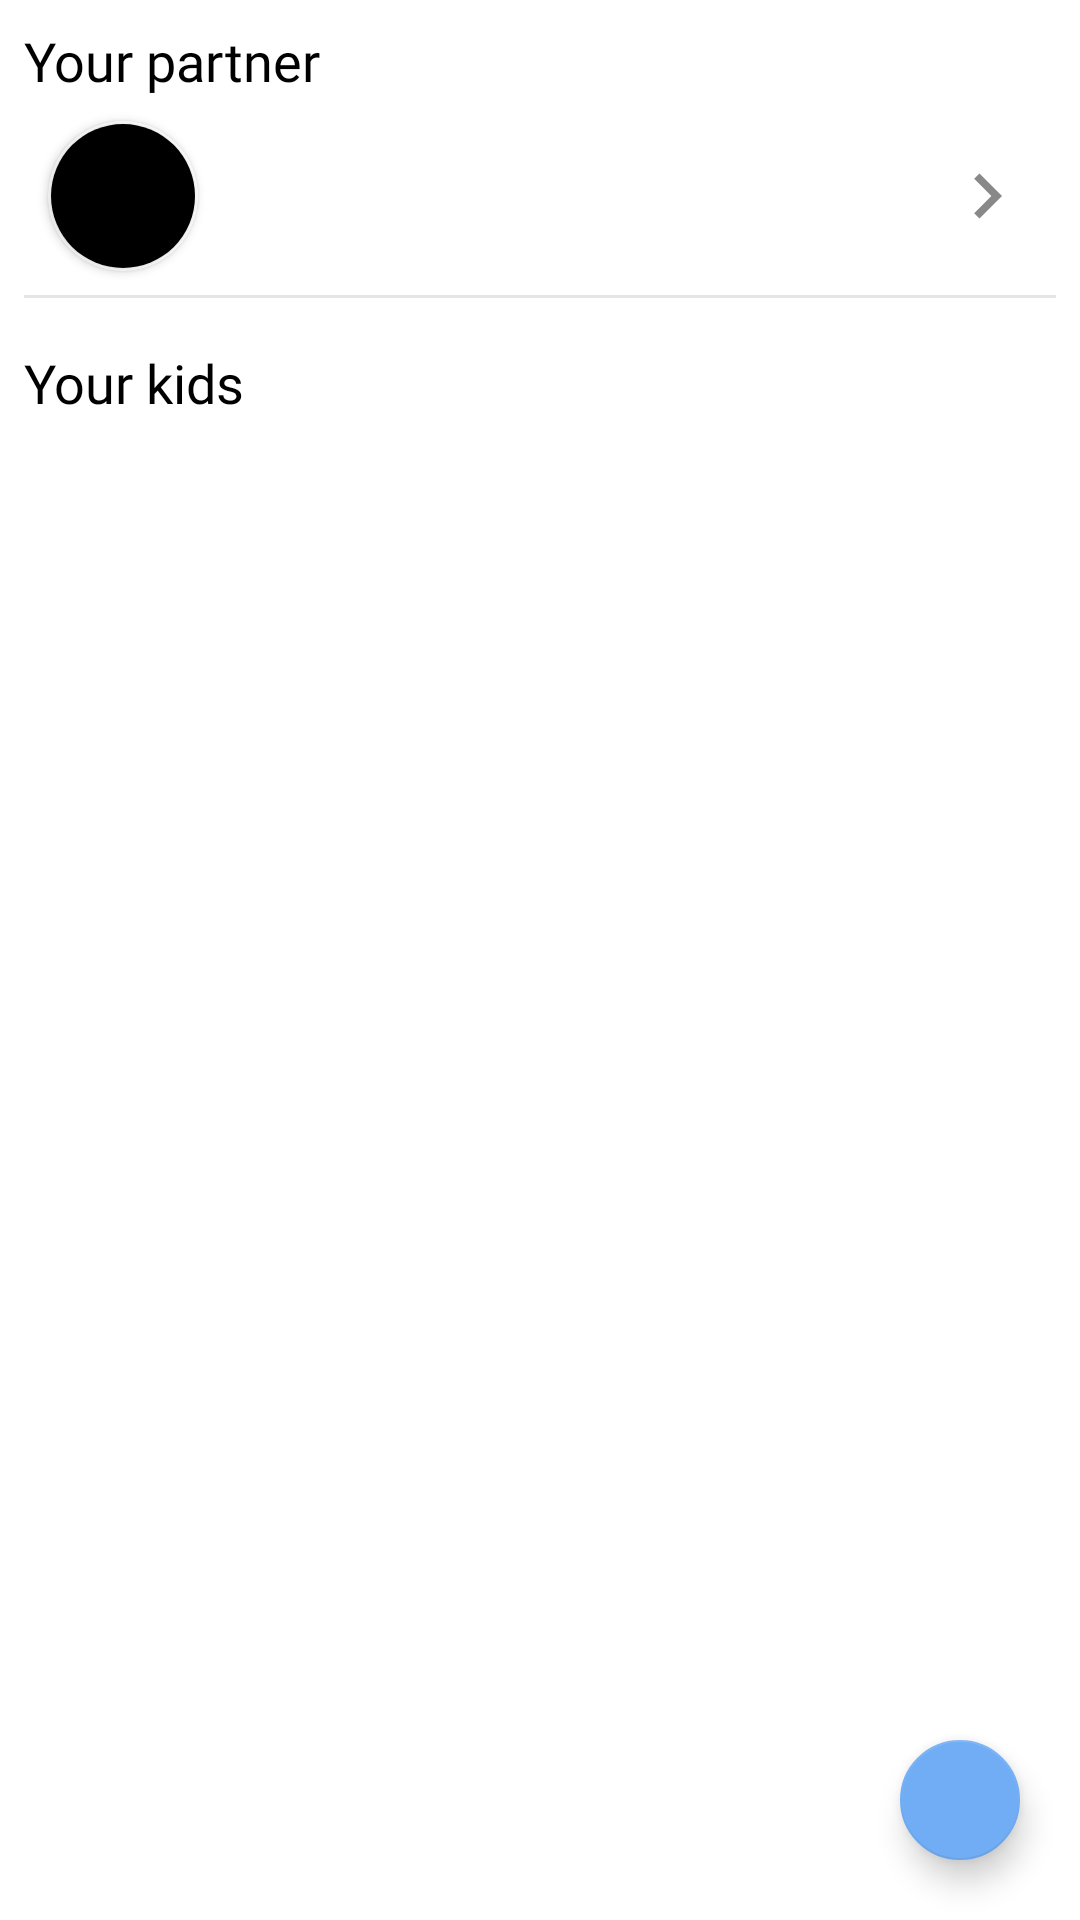

Locate icon controls on the screen. Image size 1080 × 1920, boxes as region(x1, y1, x2, y2).
next: region(974, 173, 1002, 219)
